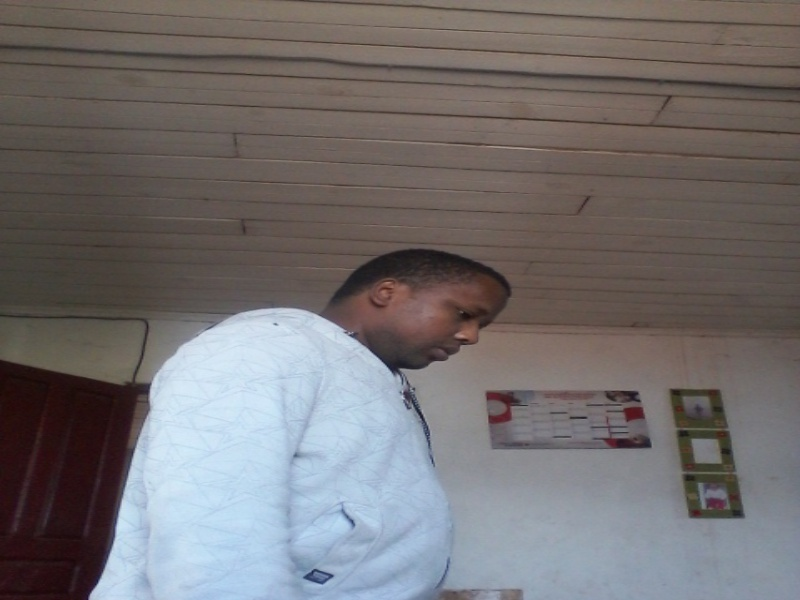TsisyArotava: (378, 242, 525, 384)
